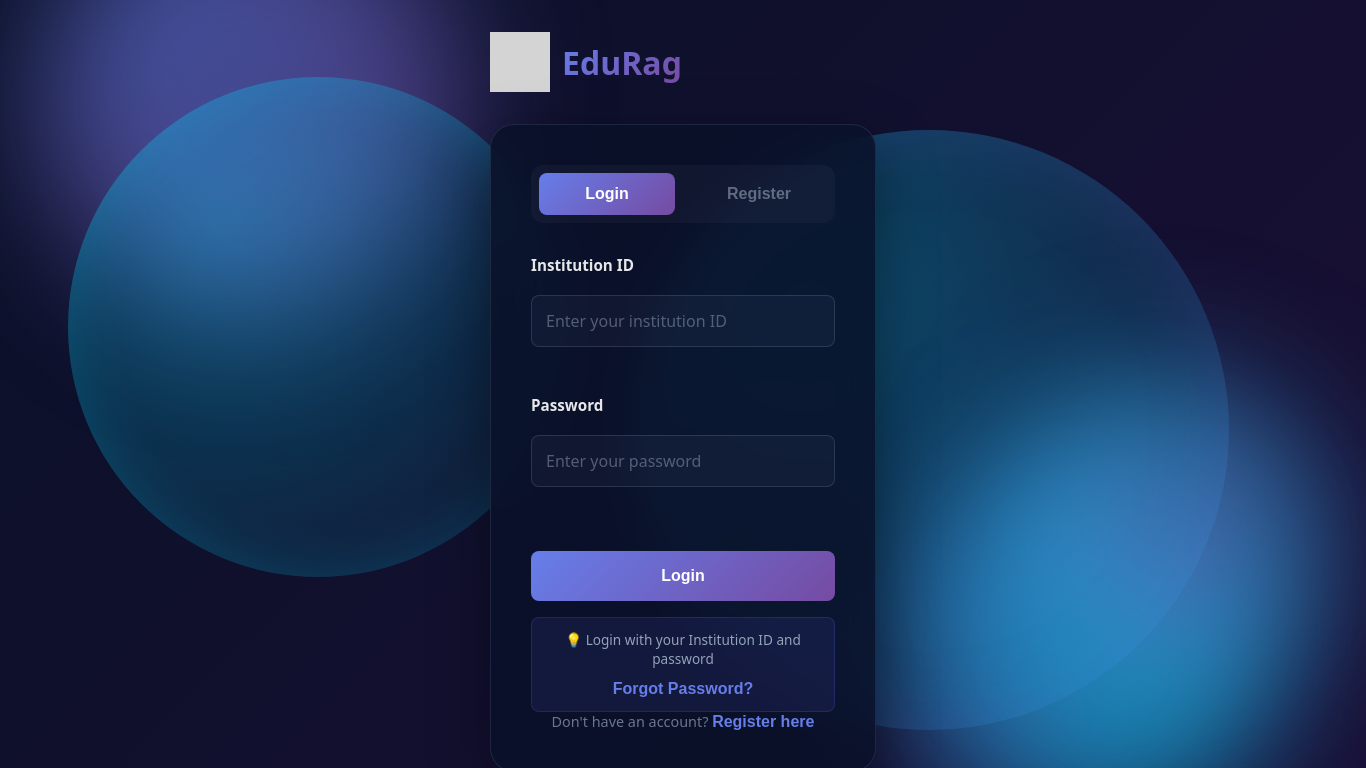
it: LoginRegister › toggles from login to register mode
Click the button "Register": (759, 194) [691,173,827,215]
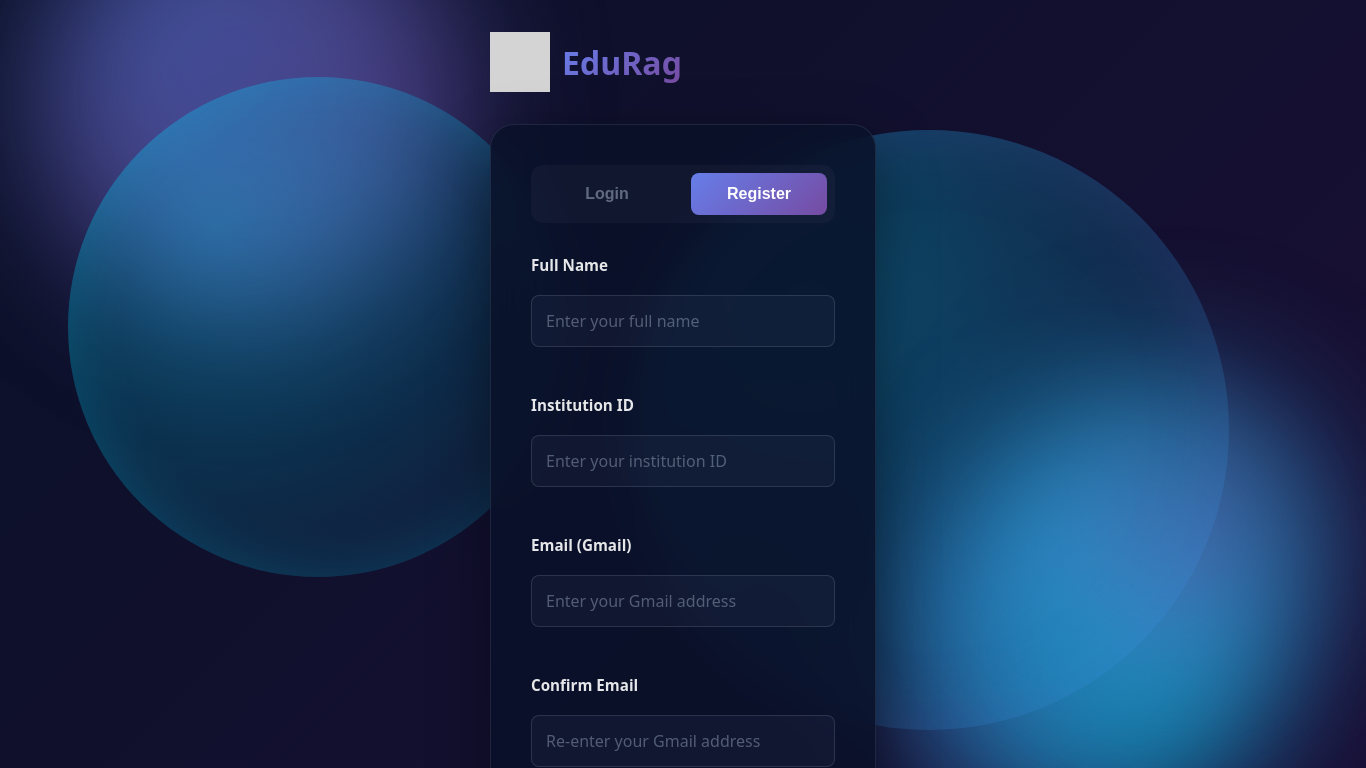
Result: the field labelled "Full Name" is shown at [531,295,835,347]
